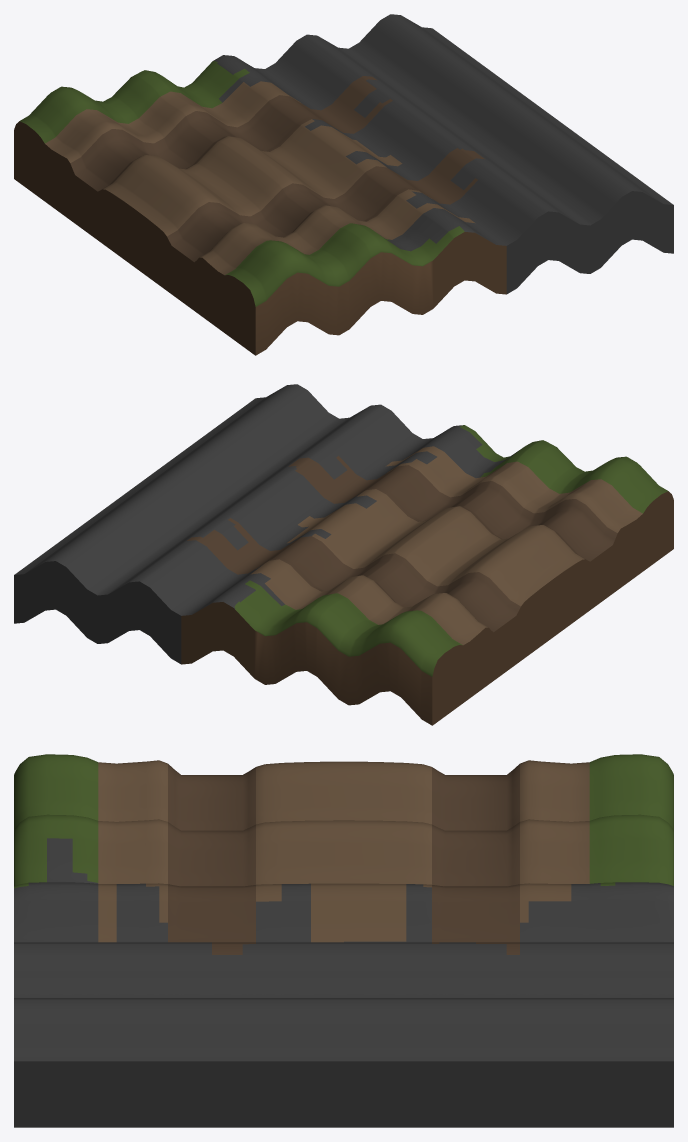
3 renders of one model, top to bottom at view 1: azimuth 30°, elevation 25°; view 2: azimuth 150°, elevation 25°; view 3: azimuth 270°, elevation 25°, orthographic. The views are drawn at different scales.
Parts seen in each view (by area): view 1: w2t; view 2: w2t; view 3: w2t.
Part boxes in pixels (x1=…): w2t: x1=14, y1=14, x2=673, y2=355; w2t: x1=14, y1=384, x2=673, y2=725; w2t: x1=14, y1=754, x2=673, y2=1127.
Bounding box in the file's own units: 9 × 1.81 × 9.
